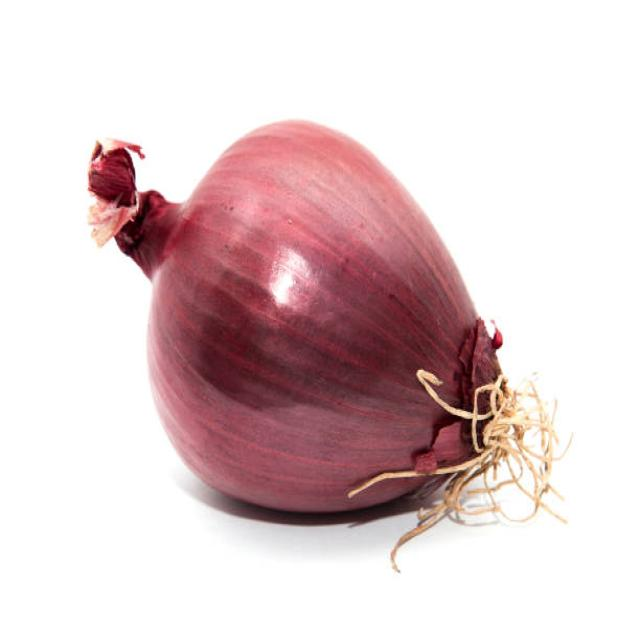onion: (141, 113, 523, 541)
